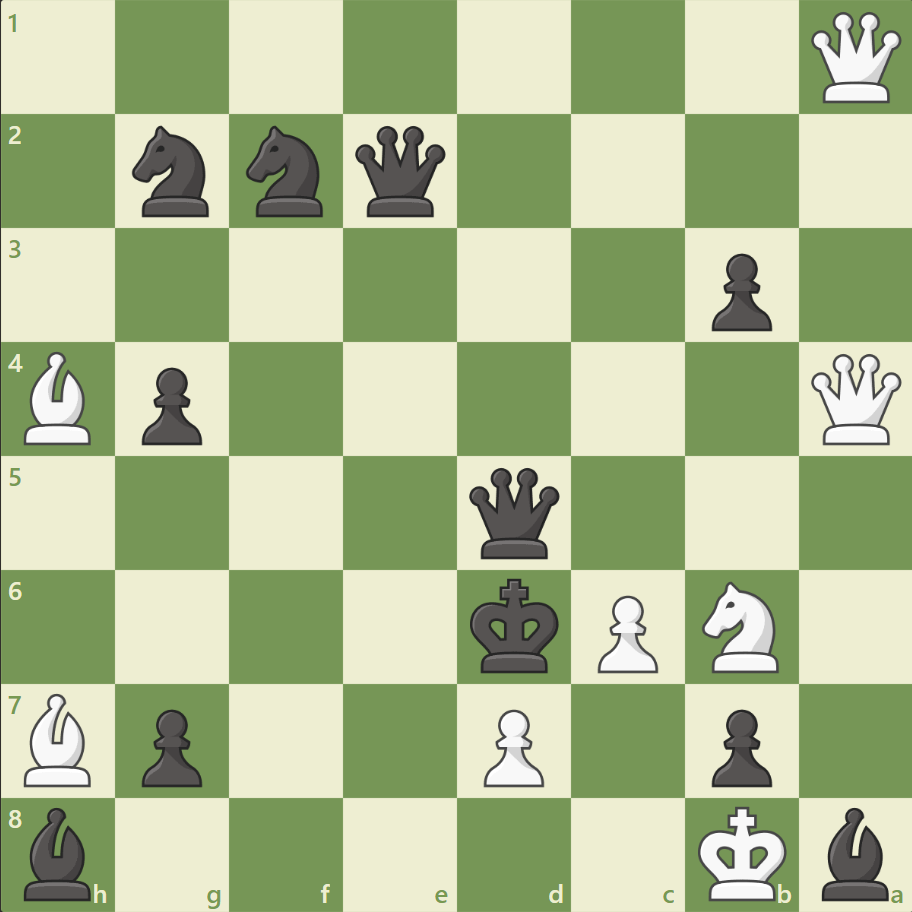B: (17, 687, 101, 790), (17, 347, 101, 449)
K: (692, 798, 792, 906)
N: (692, 575, 789, 677)
P: (474, 700, 549, 791), (588, 586, 662, 677)
Q: (805, 349, 904, 449), (805, 9, 904, 108)
b: (812, 801, 896, 904), (17, 801, 101, 904)
k: (465, 571, 565, 679)
n: (124, 121, 222, 223), (238, 121, 335, 223)
p: (701, 700, 776, 791), (133, 700, 208, 791), (133, 359, 208, 450), (701, 246, 776, 337)
q: (351, 122, 450, 222), (464, 463, 563, 562)
